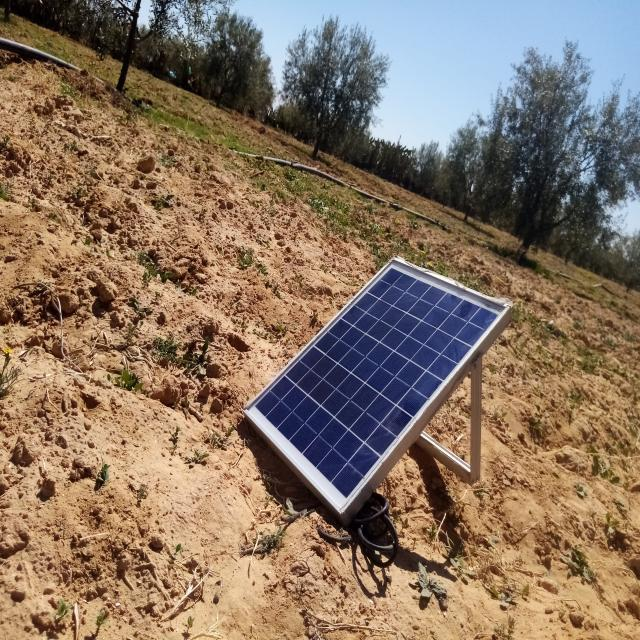Normal Solar Panel: (245, 257, 508, 511)
